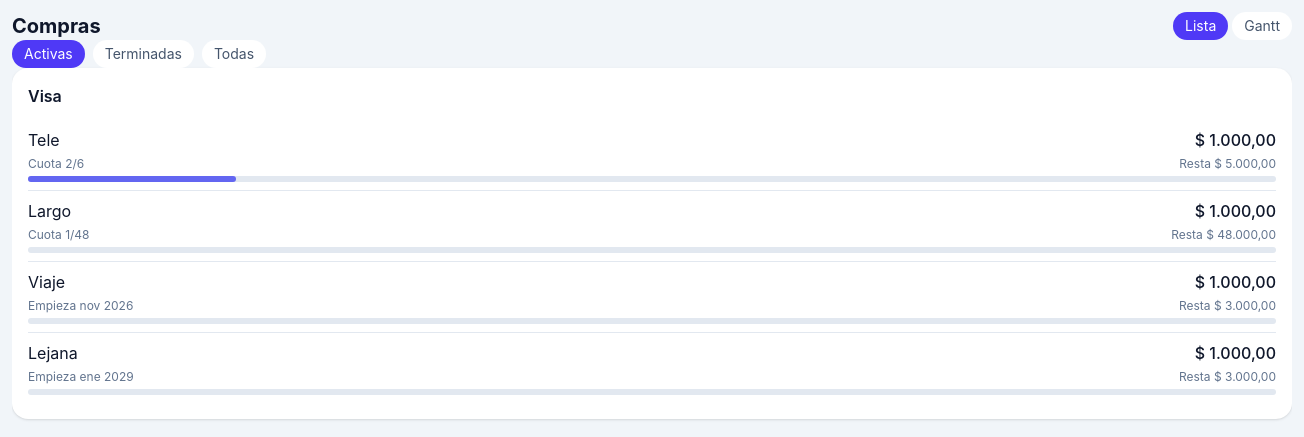
Test: PurchasesPage › gantt excluye compras más allá de las columnas visibles y avisa
Check: the text "Tele" is shown, box [28,128,60,152]
Check: the text "Viaje" is shown, box [28,270,65,294]
Click the button "Gantt" at (1262, 26), box [1232,12,1292,40]
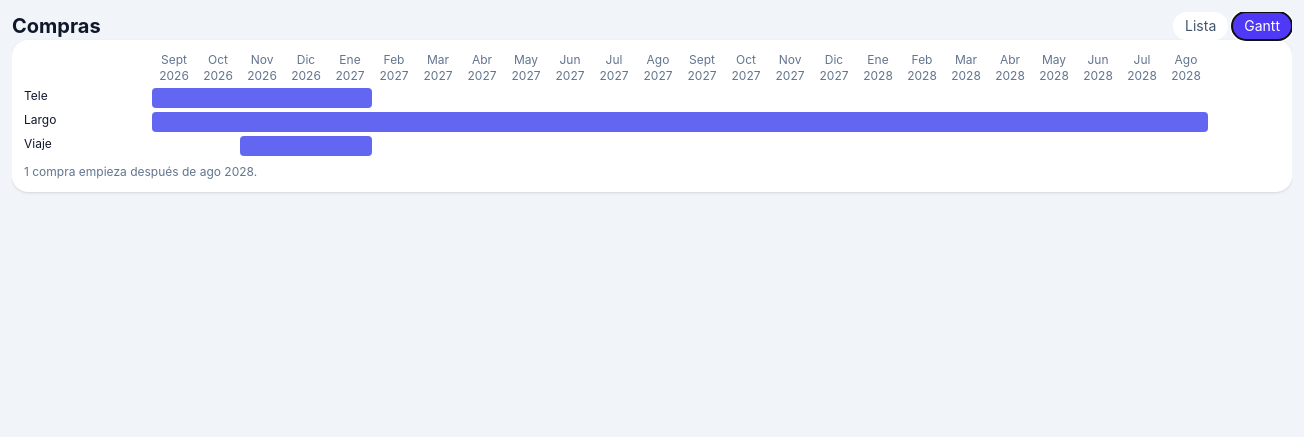
Check: the text "1 compra empieza después de" is shown, box [24,164,257,179]
Check: the element with test id "^gantt-bar-" is shown, box [152,88,372,108]
